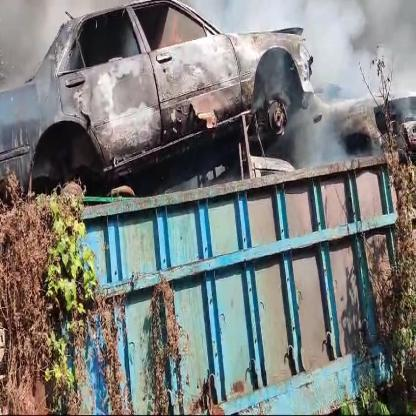Smoke: (0, 2, 416, 164)
